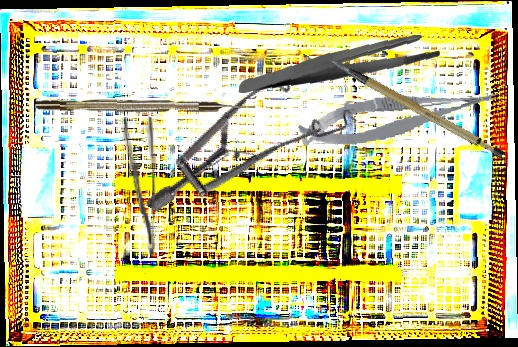Dressing Forceps: (238, 25, 441, 104), (121, 116, 158, 255)
Hook Surgical: (35, 98, 257, 114)
Micro Scissor: (295, 83, 503, 152)
Scalpel Handle: (328, 32, 507, 180)
Speculum: (144, 21, 374, 276)
